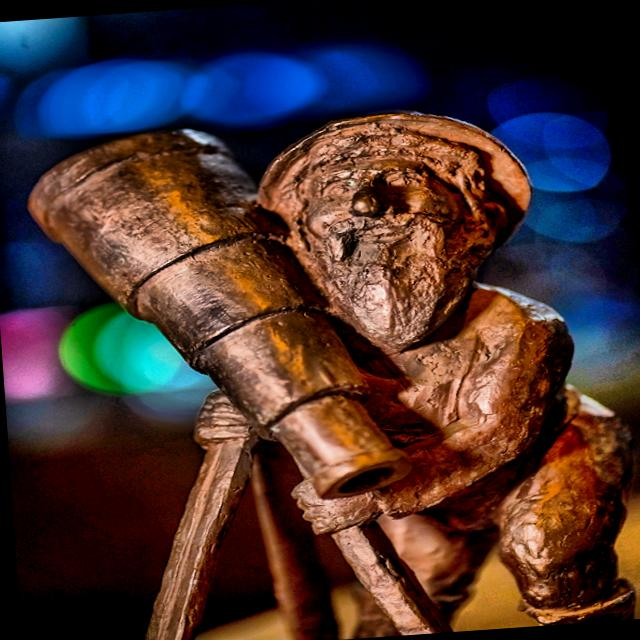Lunetyk: (28, 111, 638, 640)
